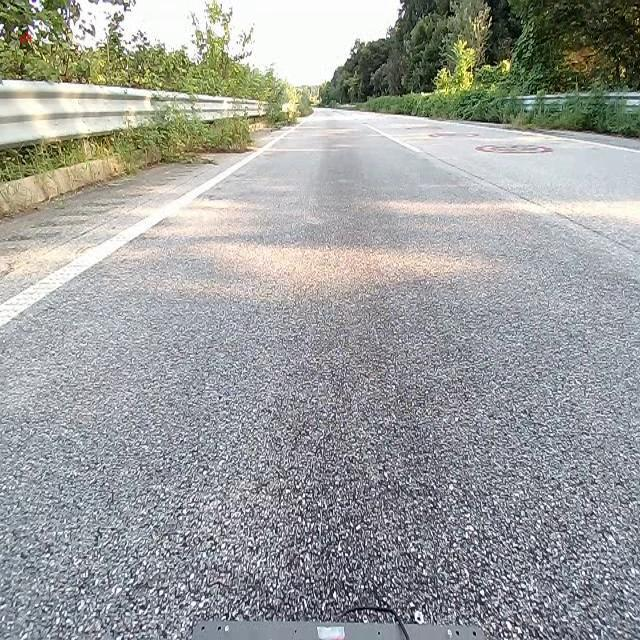Lane: (0, 130, 297, 338), (0, 139, 277, 332), (357, 112, 640, 262), (364, 121, 639, 257)
